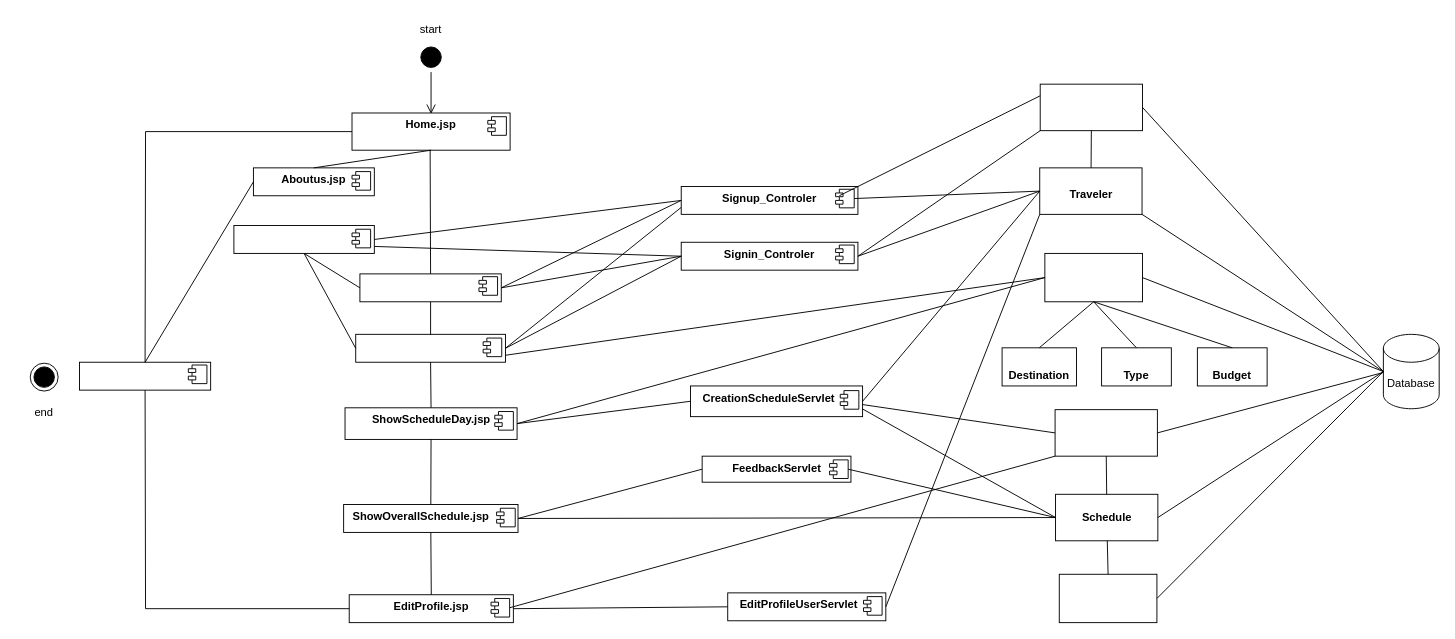
The diagram is 1455 pixels wide and 639 high, and some of its shapes have lost their labels. Here are the shapes that lost their labels. From the top down, the box of each, then its label:
(1039, 83, 1143, 131): TravelerService
(233, 225, 374, 253): Authentication.jsp
(359, 273, 501, 302): Connect.jsp
(1044, 252, 1143, 302): CatalogService
(355, 333, 505, 362): Selection.jsp
(79, 361, 211, 390): logout.jsp
(1054, 409, 1157, 456): ScheduleDAO
(1058, 573, 1157, 623): Activity
